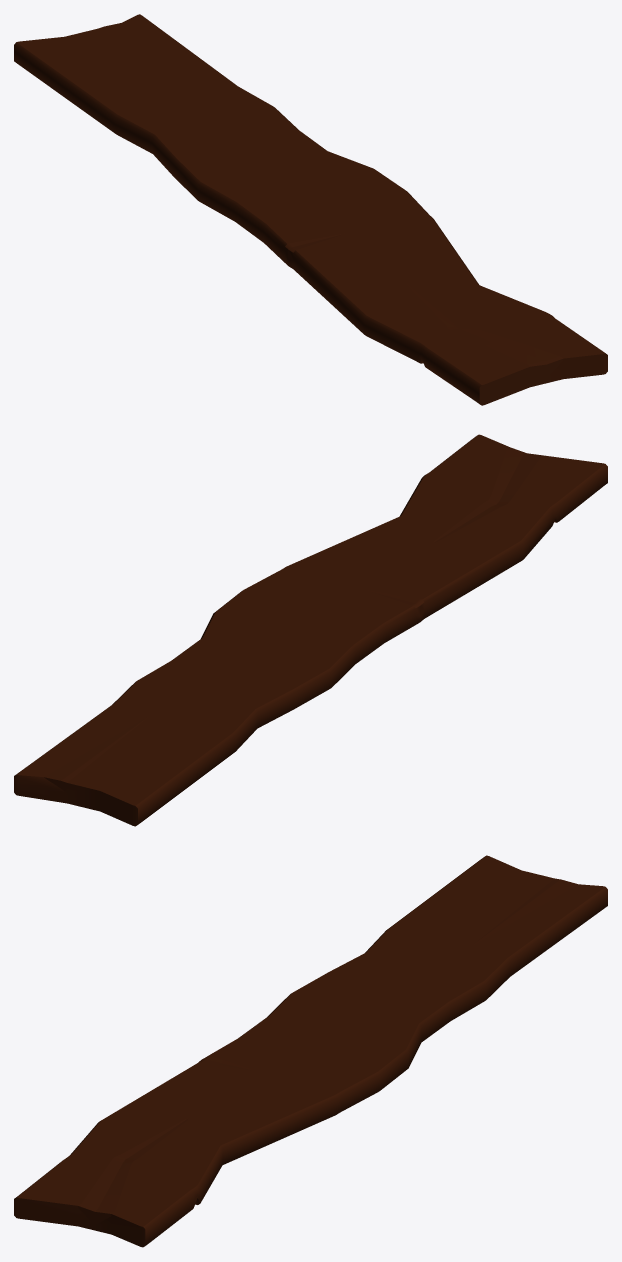
The model's file is A_NJ_Plank_002.fbx.
3 views of the same model, one above another, from view 1: azimuth 30°, elevation 25°; view 2: azimuth 150°, elevation 25°; view 3: azimuth 330°, elevation 25° (orthographic).
Parts seen in each view (by area): view 1: Plank; view 2: Plank; view 3: Plank.
Boxes of the visible parts, <box> form: Plank: <box>14,14,607,405</box>; Plank: <box>14,434,607,826</box>; Plank: <box>14,855,607,1247</box>.
Bounding box in the file's own units: 24.74 × 3.35 × 124.
